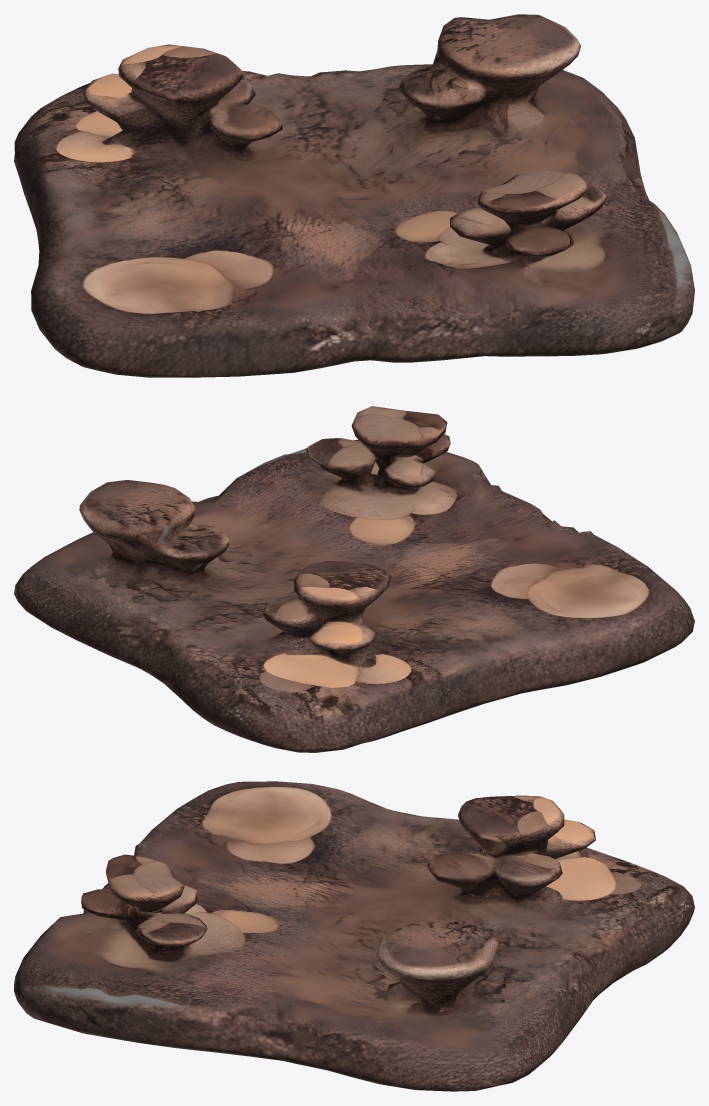
Rendered from Plot_mushroom.glb.
The picture shows the model from 3 angles, top to bottom: view 1: azimuth 30°, elevation 25°; view 2: azimuth 150°, elevation 25°; view 3: azimuth 270°, elevation 25°; orthographic projection. The views are drawn at different scales.
Visible parts, largest first — view 1: tripo_node_b82e6579-0293-46ae-8d64-36d6be684e45; view 2: tripo_node_b82e6579-0293-46ae-8d64-36d6be684e45; view 3: tripo_node_b82e6579-0293-46ae-8d64-36d6be684e45.
Boxes of the visible parts, x1,y1,x2,y2 form: tripo_node_b82e6579-0293-46ae-8d64-36d6be684e45: (14,14,694,377); tripo_node_b82e6579-0293-46ae-8d64-36d6be684e45: (14,406,694,752); tripo_node_b82e6579-0293-46ae-8d64-36d6be684e45: (14,781,694,1091).
Size of the model in its own units: 0.9938 by 0.1823 by 1.
Materials: 1 (1 with a texture image).
